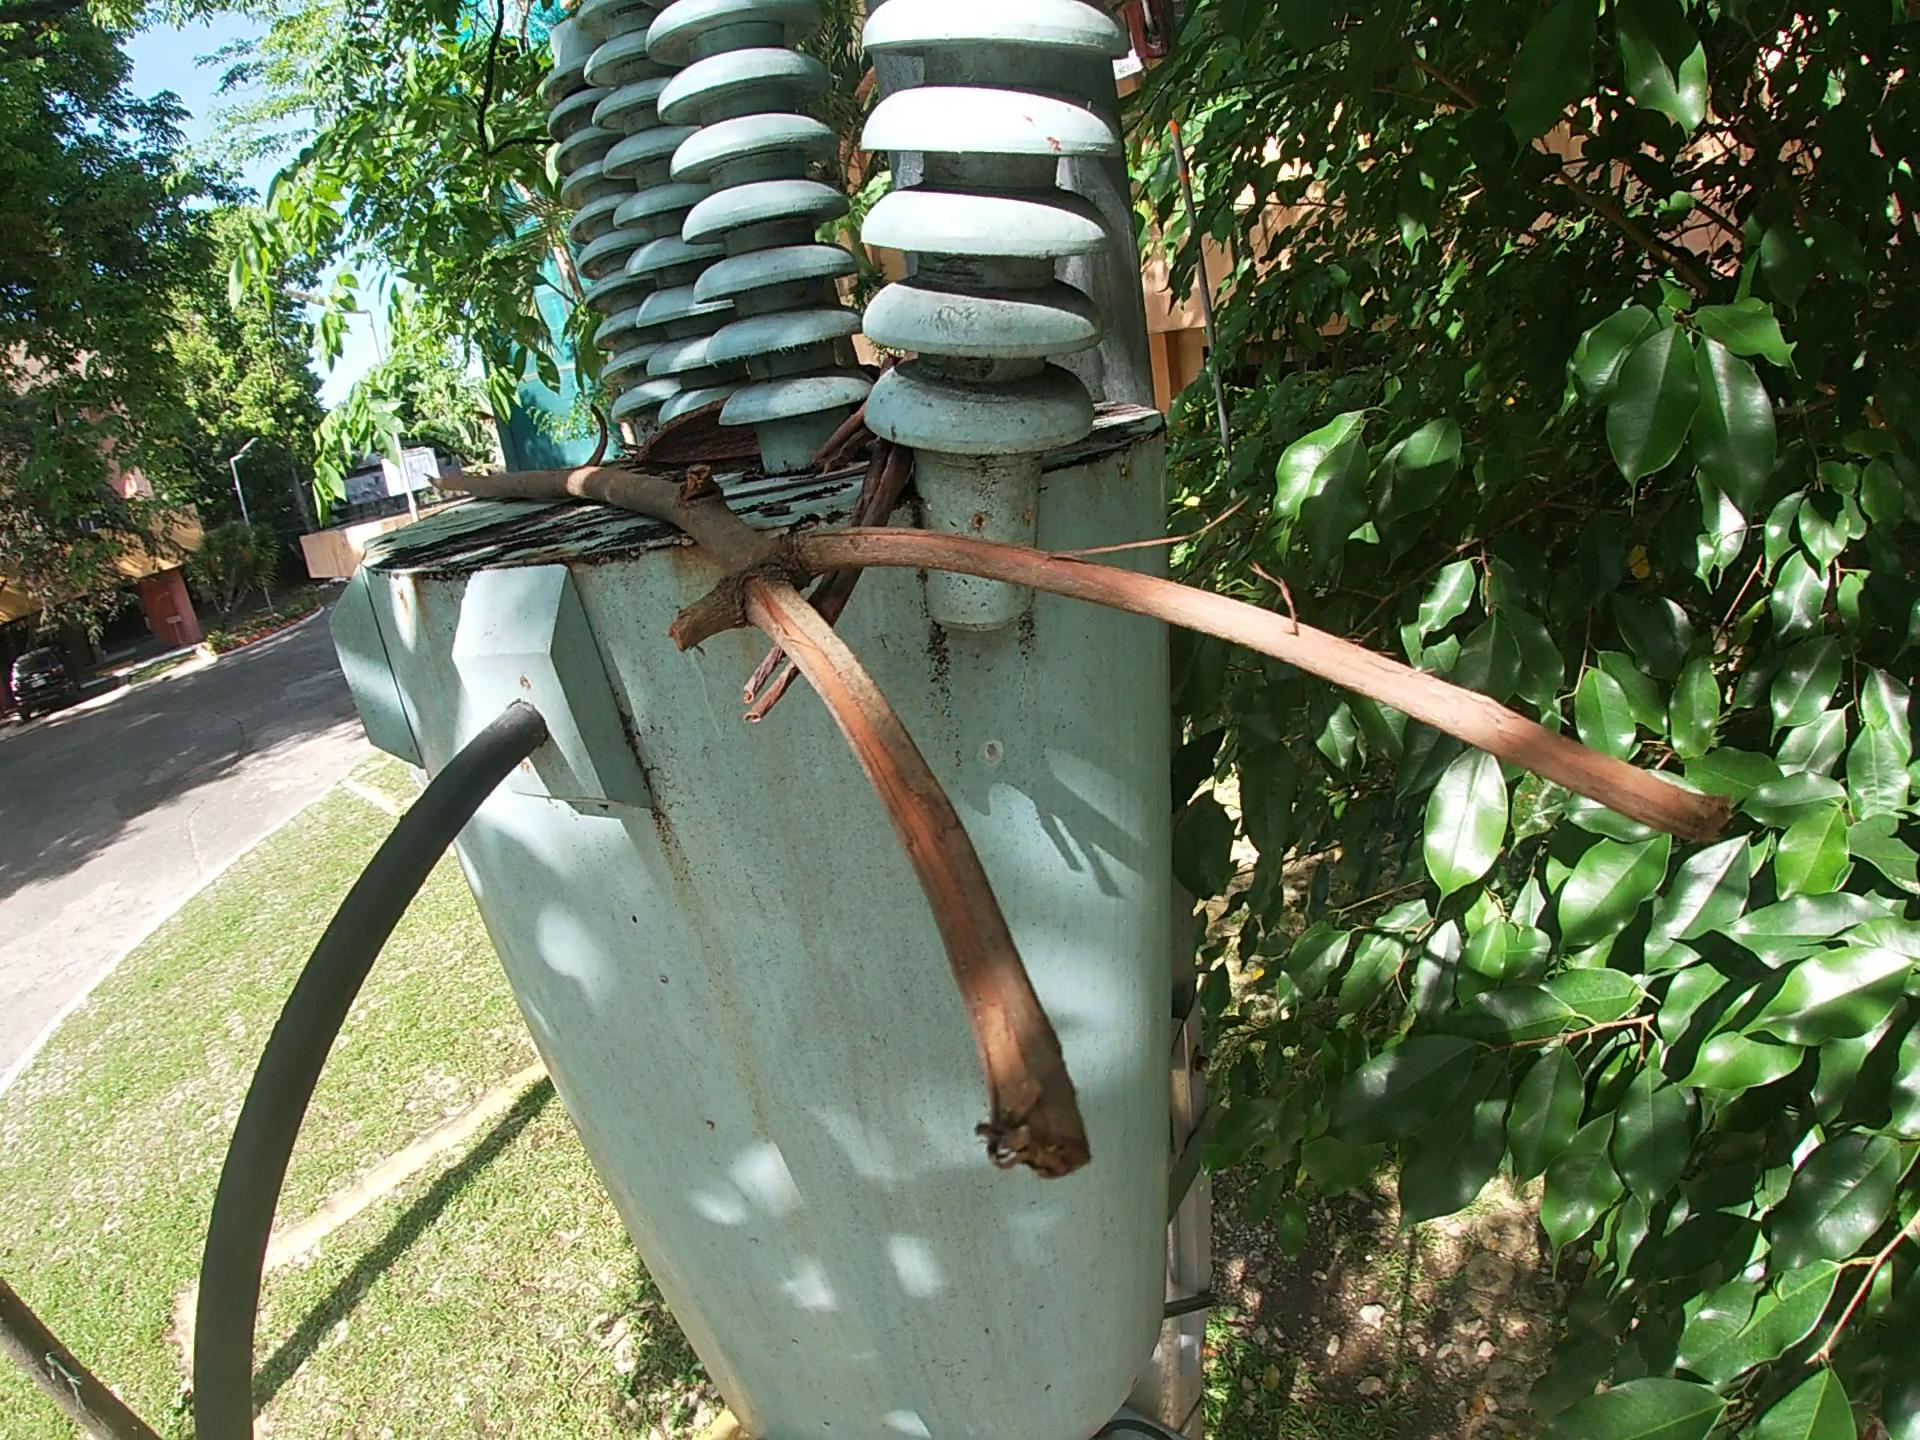mahogany fruit: (624, 396, 763, 473), (576, 398, 609, 469)
tree branch: (417, 455, 1740, 1195), (733, 352, 921, 738)
